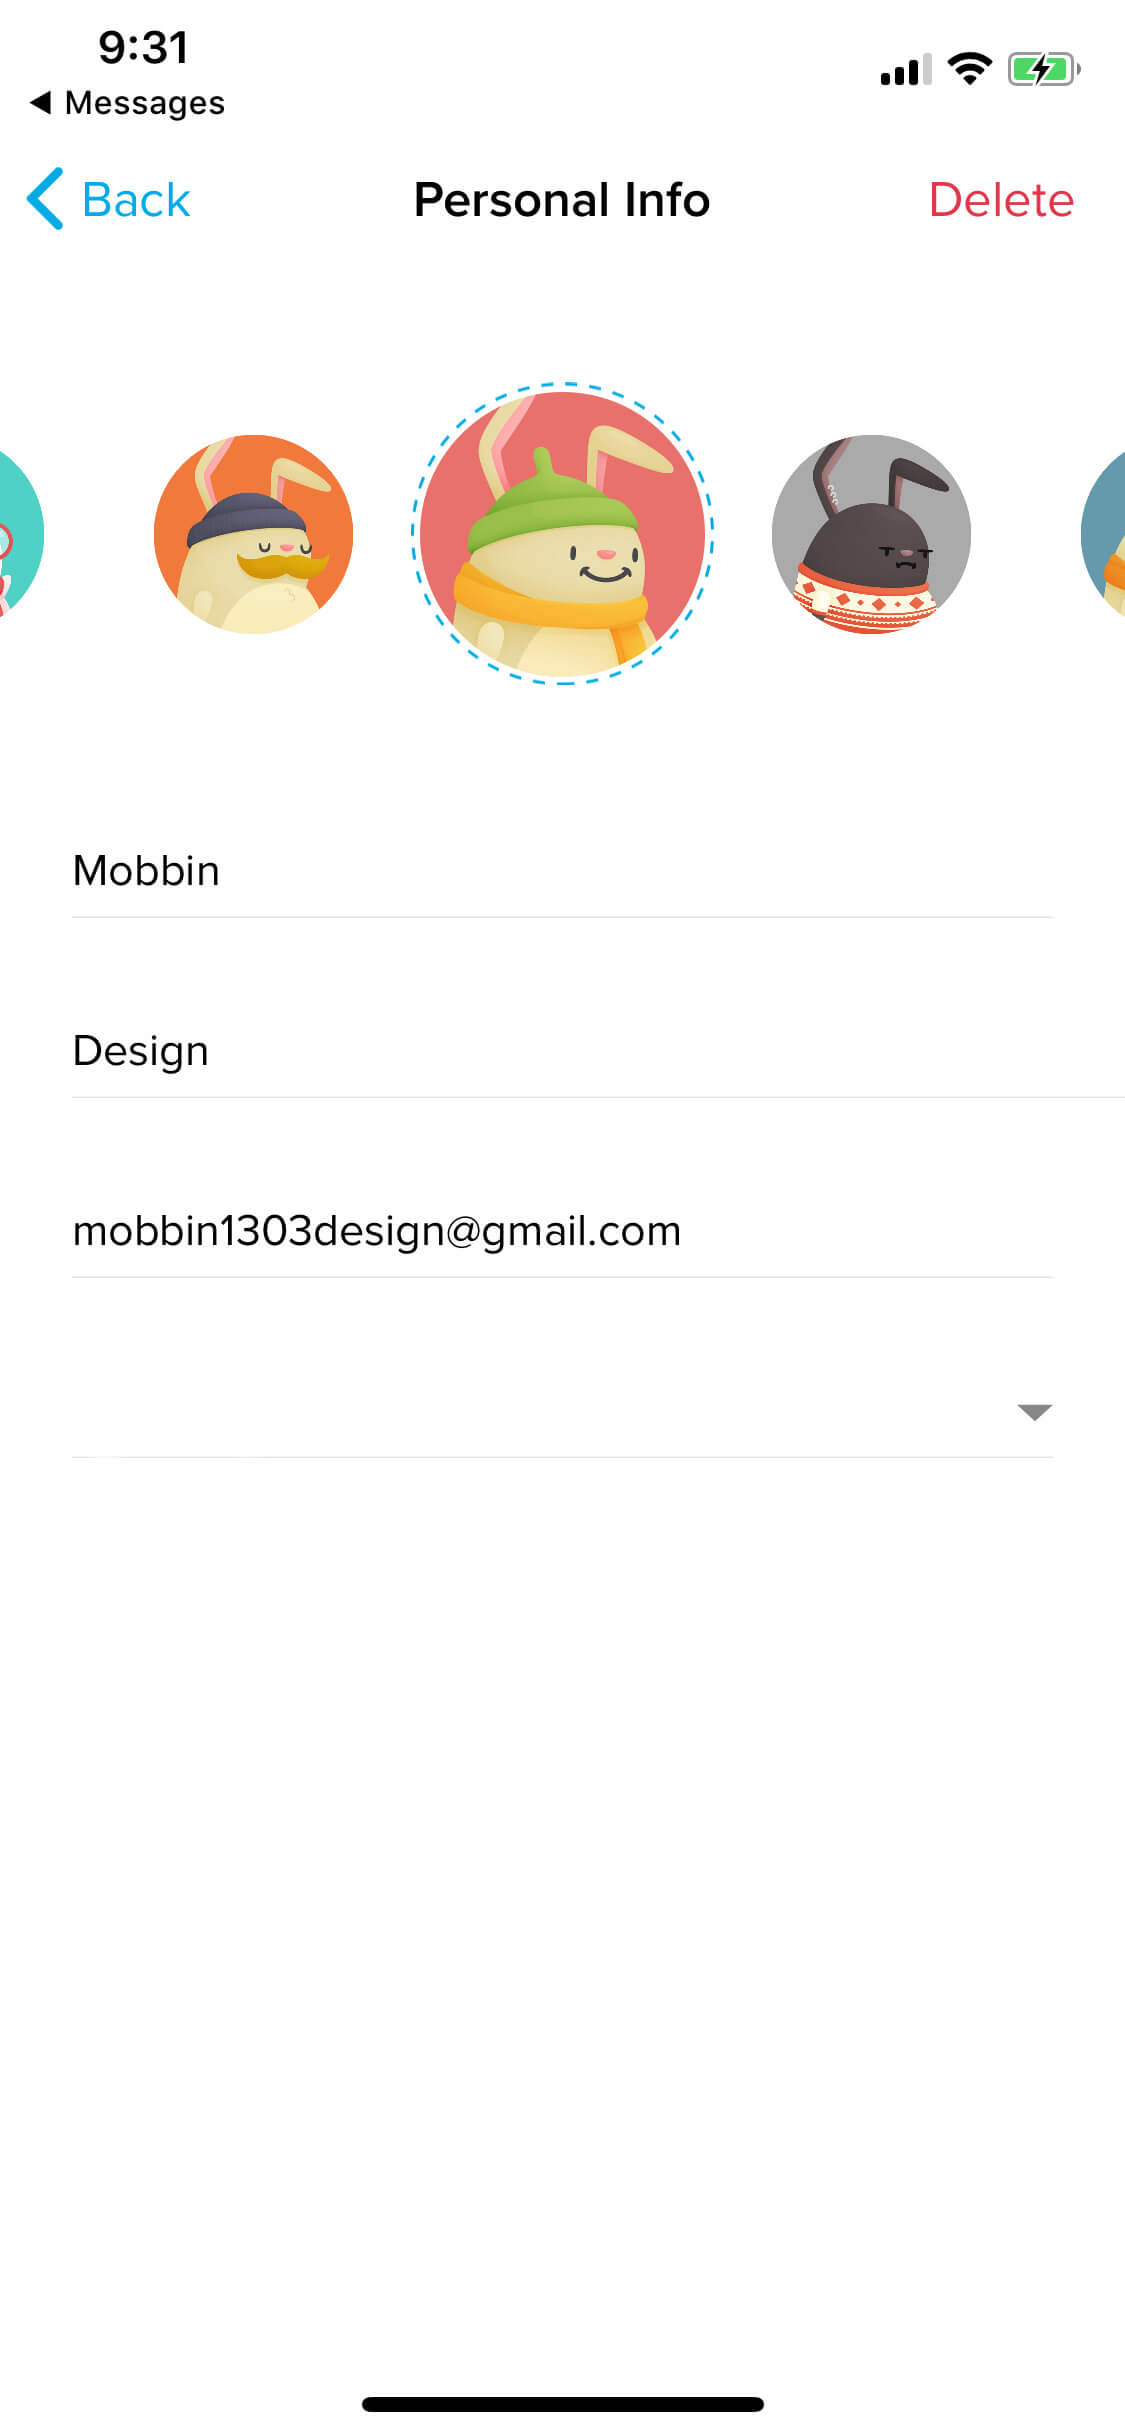Buttons: (8, 138, 221, 252), (889, 140, 1099, 252)
Text Fields: (64, 1328, 1071, 1488), (51, 1143, 1075, 1300), (44, 788, 1075, 938), (50, 968, 1072, 1115)
